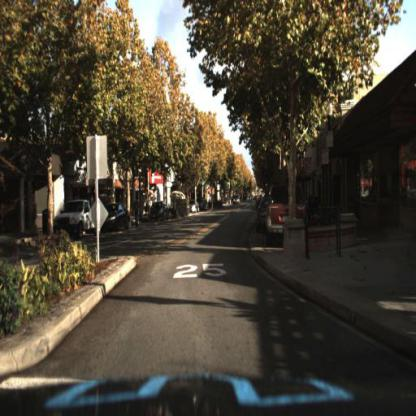car: (265, 181, 308, 247), (55, 201, 96, 242), (101, 202, 132, 236), (254, 192, 271, 236), (146, 199, 171, 225), (186, 199, 202, 215)
pedestrian: (135, 191, 143, 229)
